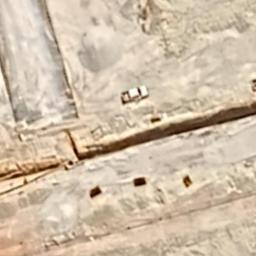pickup: (122, 84, 148, 104)
